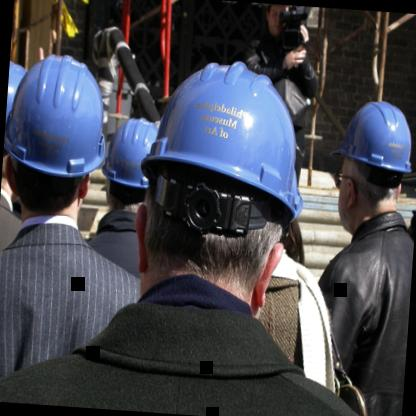helmet: (130, 51, 311, 310), (0, 50, 111, 215), (326, 96, 416, 235), (101, 116, 161, 208)
